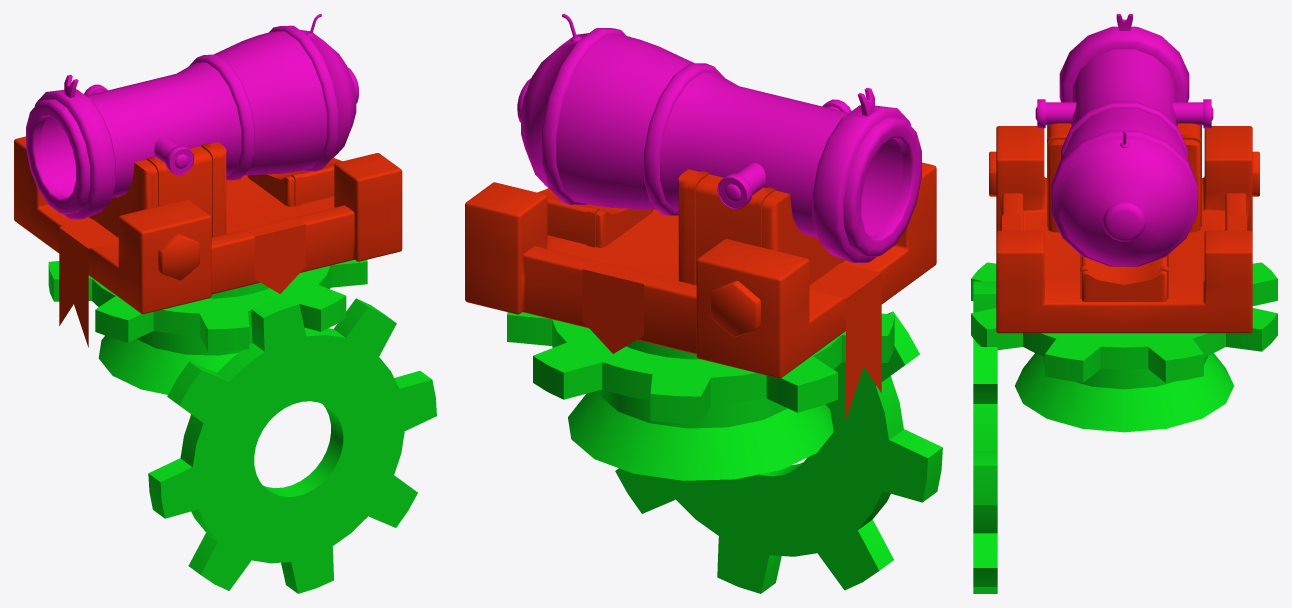
File: kanonBIJELKAAR.fbx
3 views of the same model, side by side, from view 1: azimuth 30°, elevation 25°; view 2: azimuth 150°, elevation 25°; view 3: azimuth 270°, elevation 25° (orthographic). The views are drawn at different scales.
Visible parts, largest first — view 1: Gear.002; view 2: Gear.002; view 3: Gear.002.
Part boxes in pixels (box(x1,y1,x2,y2)): Gear.002: box(14, 14, 436, 593); Gear.002: box(465, 14, 942, 593); Gear.002: box(971, 14, 1277, 593).
Size of the model in its own units: 2.89 by 4.49 by 2.51.
